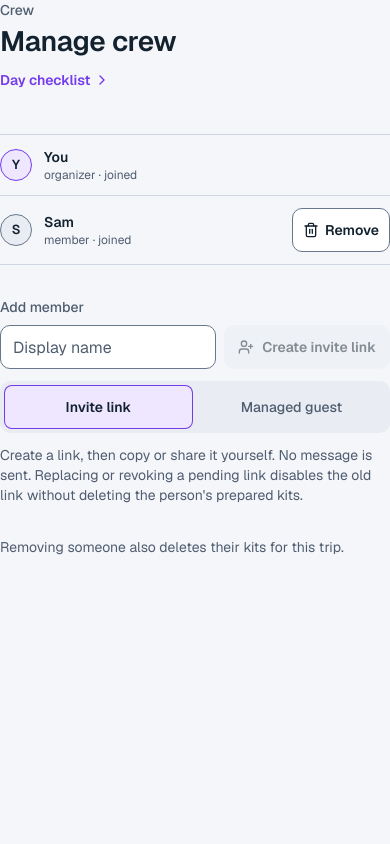
Test: Manage crew page › describes actual removal effects for joined with token null
The width and height of the screenshot is (390, 844).
Click the button with aria-label "Remove Sam" at x=341, y=230, box x1=292 y1=208 x2=389 y2=252
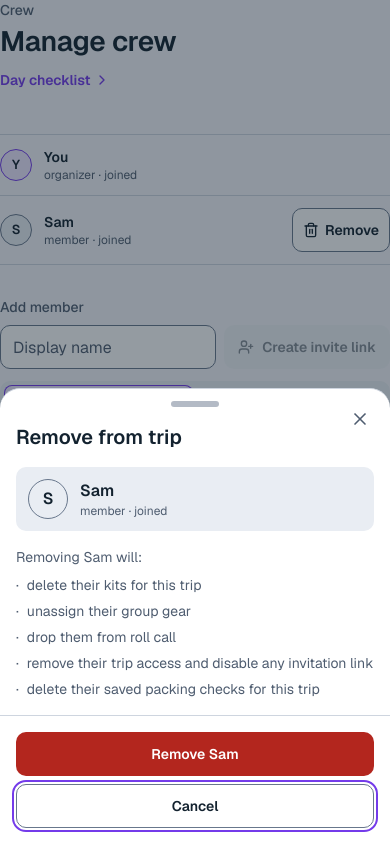
Expected: the list item "delete their kits for this trip" is shown, x1=27 y1=576 x2=201 y2=594
Expected: the list item "delete their saved packing checks for this trip" is shown, x1=27 y1=680 x2=320 y2=698
Expected: the list item "remove their trip access and disable any invitation link" is shown, x1=27 y1=654 x2=373 y2=672
